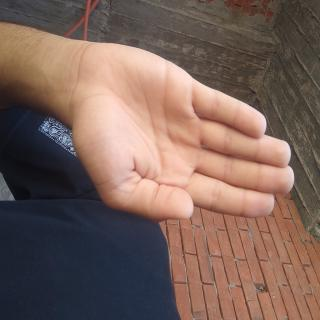SEEN: (24, 25, 171, 320)
